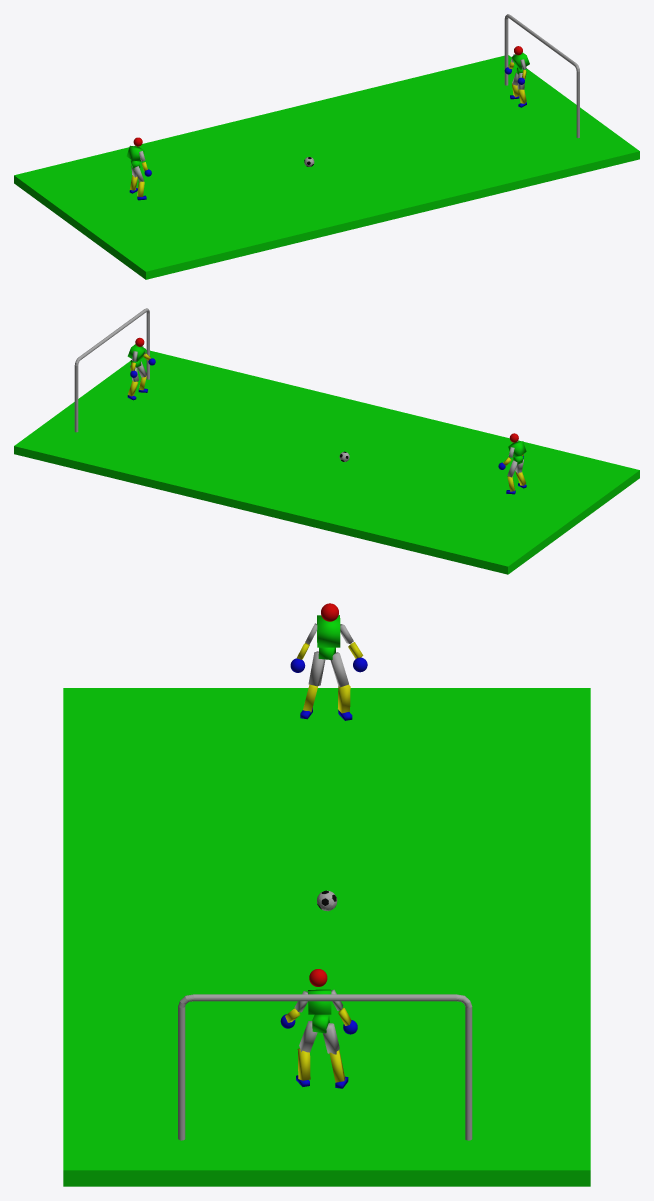
Rendered from bge_ball_1.1.2_000142.obj.
3 views of the same model, one above another, from view 1: azimuth 30°, elevation 25°; view 2: azimuth 150°, elevation 25°; view 3: azimuth 270°, elevation 25° (orthographic). The views are drawn at different scales.
Visible parts, largest first — view 1: solo_Cubo.025, gol; view 2: solo_Cubo.025, gol; view 3: solo_Cubo.025, gol.
Part boxes in pixels (x1,y1,x2,y2): solo_Cubo.025: (14, 55, 639, 279); gol: (504, 14, 579, 138); solo_Cubo.025: (14, 349, 639, 574); gol: (74, 308, 149, 432); solo_Cubo.025: (63, 688, 590, 1186); gol: (178, 994, 472, 1140).
Bounding box in the file's own units: 37.8 × 5.87 × 17.47.
